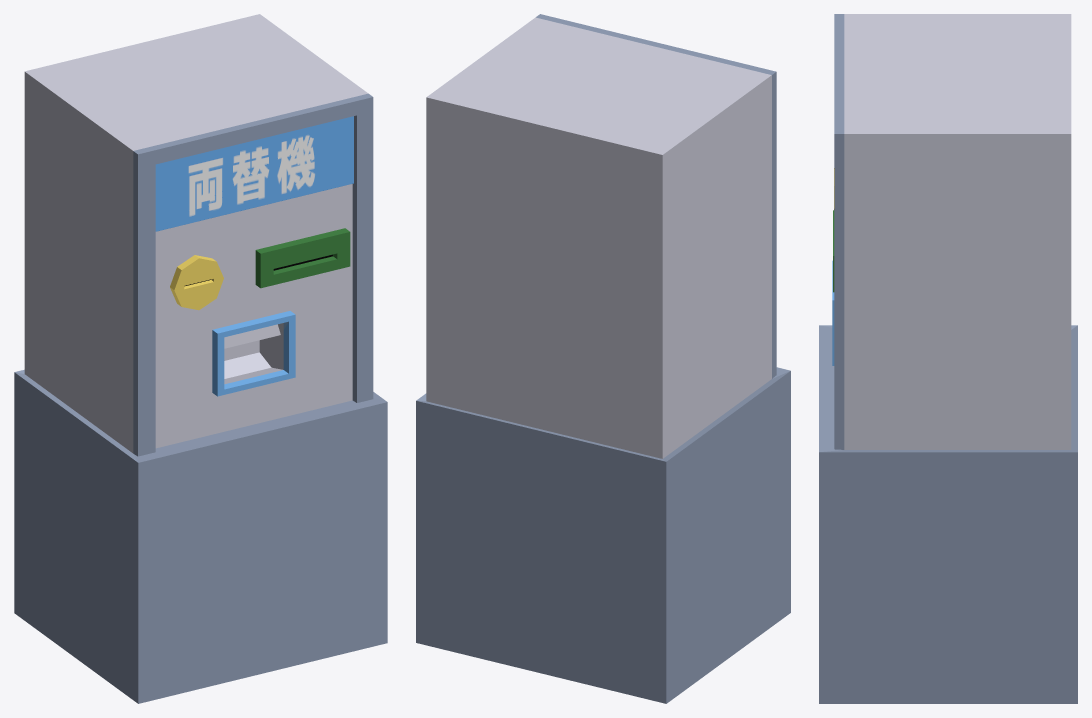
The model's file is game_ryougaiki.fbx.
3 views of the same model, side by side, from view 1: azimuth 30°, elevation 25°; view 2: azimuth 150°, elevation 25°; view 3: azimuth 270°, elevation 25° (orthographic). The views are drawn at different scales.
Visible parts, largest first — view 1: ryougaiki; view 2: ryougaiki; view 3: ryougaiki.
Boxes of the visible parts, box(x1,y1,x2,y2) form: ryougaiki: box(14, 14, 387, 703); ryougaiki: box(416, 14, 790, 703); ryougaiki: box(819, 14, 1077, 703).
Size of the model in its own units: 265 by 551 by 228.
